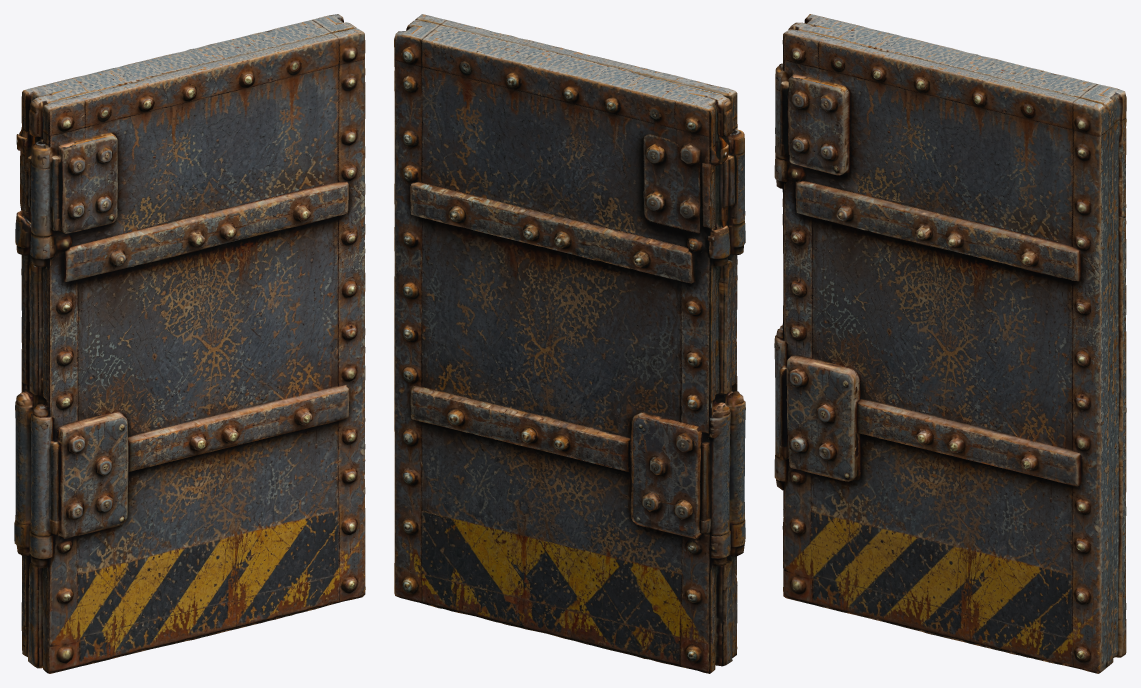
The model's file is BKI_BlastLeaf.fbx.
3 views of the same model, side by side, from view 1: azimuth 30°, elevation 25°; view 2: azimuth 150°, elevation 25°; view 3: azimuth 330°, elevation 25° (orthographic).
Visible parts, largest first — view 1: texture_mapping; view 2: texture_mapping; view 3: texture_mapping.
Boxes of the visible parts, bbox=[...] form: texture_mapping: bbox=[14, 14, 365, 673]; texture_mapping: bbox=[394, 14, 745, 673]; texture_mapping: bbox=[774, 14, 1126, 673].
Size of the model in its own units: 0.6089 by 0.1413 by 1.
1 material, 1 textured.
